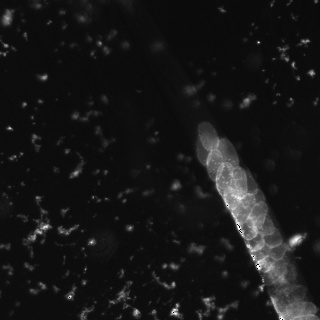embryo: (215, 138, 240, 169), (262, 257, 288, 286), (233, 193, 255, 224), (206, 148, 225, 183), (278, 285, 308, 306), (197, 122, 218, 151), (228, 167, 247, 199), (216, 162, 234, 195), (246, 202, 268, 227), (196, 134, 211, 166), (287, 302, 317, 318), (237, 218, 257, 239), (253, 214, 273, 235), (262, 227, 283, 247), (245, 230, 264, 252), (223, 186, 241, 209), (258, 253, 276, 273), (251, 243, 271, 261), (270, 242, 286, 261), (253, 189, 267, 206)
